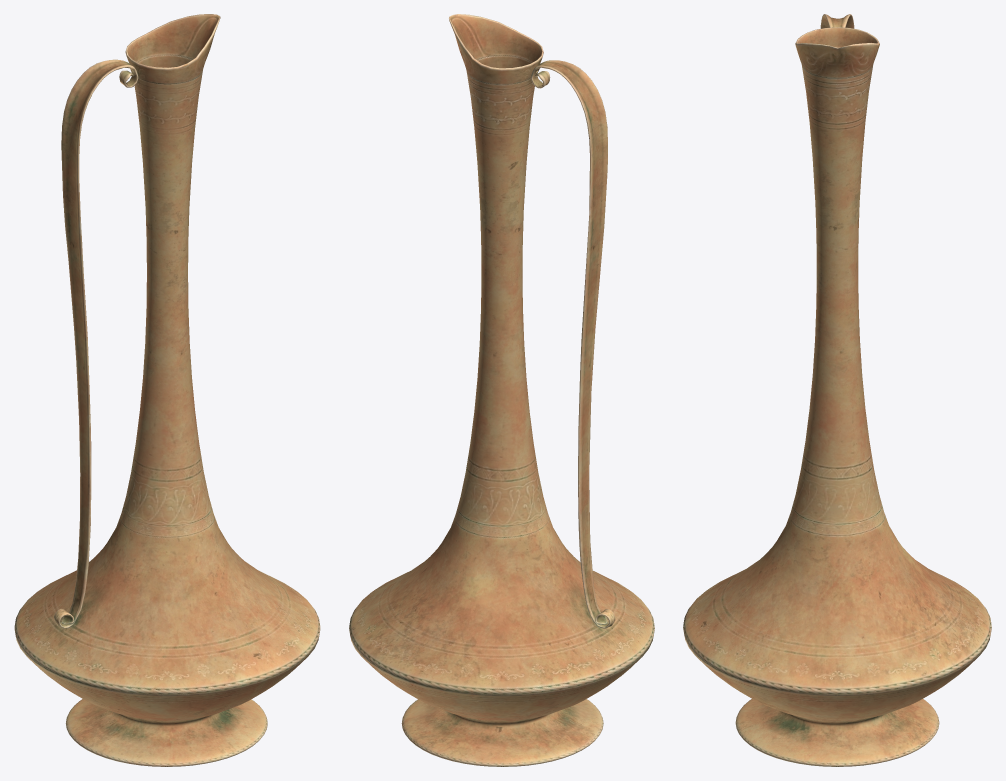
The model's file is brass_vase_02.glb.
3 renders of one model, left to right at view 1: azimuth 30°, elevation 25°; view 2: azimuth 150°, elevation 25°; view 3: azimuth 270°, elevation 25°, orthographic.
Parts seen in each view (by area): view 1: brass_vase_02; view 2: brass_vase_02; view 3: brass_vase_02.
Part boxes in pixels (box(x1,y1,x2,y2)): brass_vase_02: box(14, 14, 320, 766); brass_vase_02: box(349, 14, 654, 766); brass_vase_02: box(683, 14, 991, 766).
Bounding box in the file's own units: 0.2103 × 0.5286 × 0.2103.
1 material, 1 textured.
